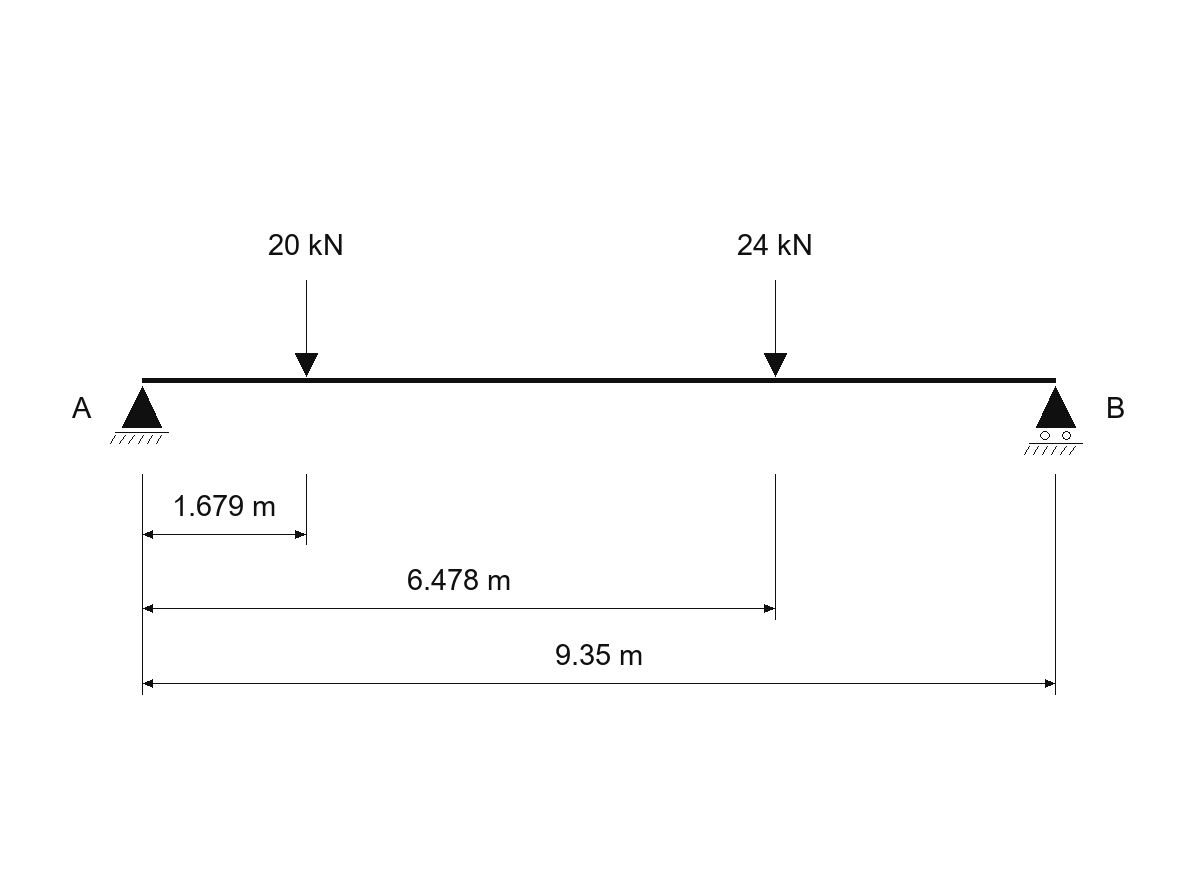pin_support: (110, 386, 169, 444)
point_load: (295, 280, 318, 377), (764, 280, 787, 377)
roller_support: (1024, 386, 1083, 455)
